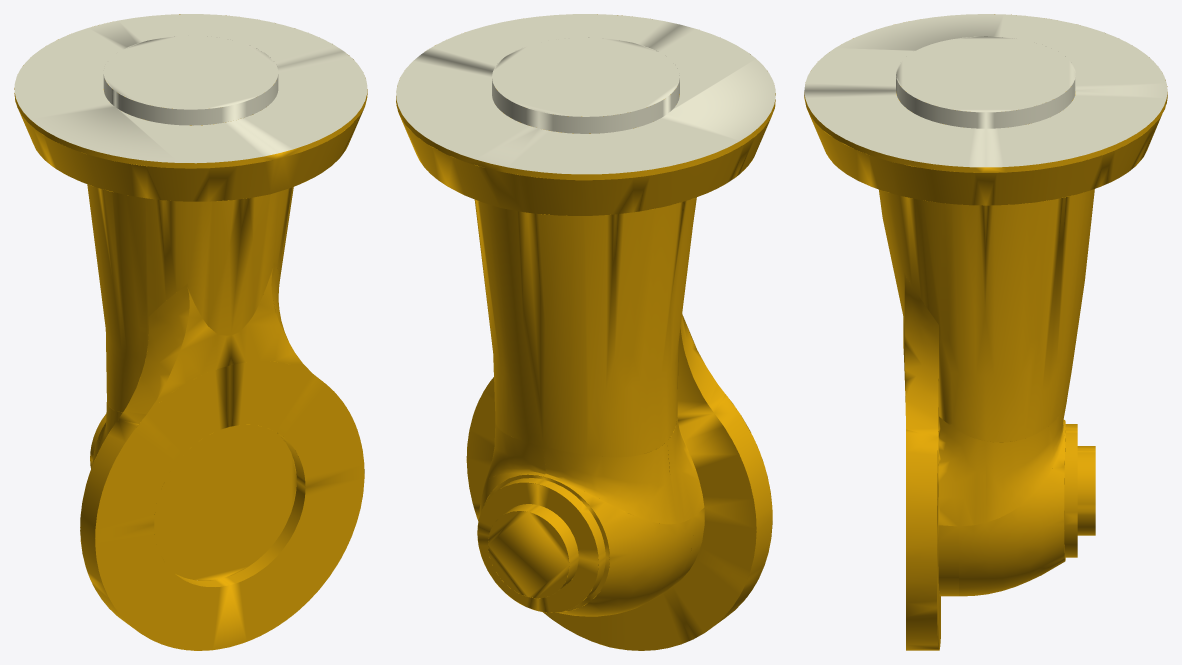
3 renders of one model, left to right at view 1: azimuth 30°, elevation 25°; view 2: azimuth 150°, elevation 25°; view 3: azimuth 270°, elevation 25°, orthographic. The views are drawn at different scales.
Parts seen in each view (by area): view 1: KR270_Link4; view 2: KR270_Link4; view 3: KR270_Link4.
Boxes of the visible parts, bbox=[...] form: KR270_Link4: bbox=[14, 14, 367, 650]; KR270_Link4: bbox=[396, 14, 775, 650]; KR270_Link4: bbox=[804, 14, 1167, 650].
Bounding box in the file's own units: 0.202 × 0.202 × 0.3446.
